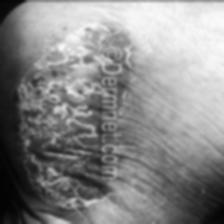Non-Cancerous Skin Condition: (26, 18, 94, 224), (101, 10, 154, 186), (0, 31, 23, 147)
